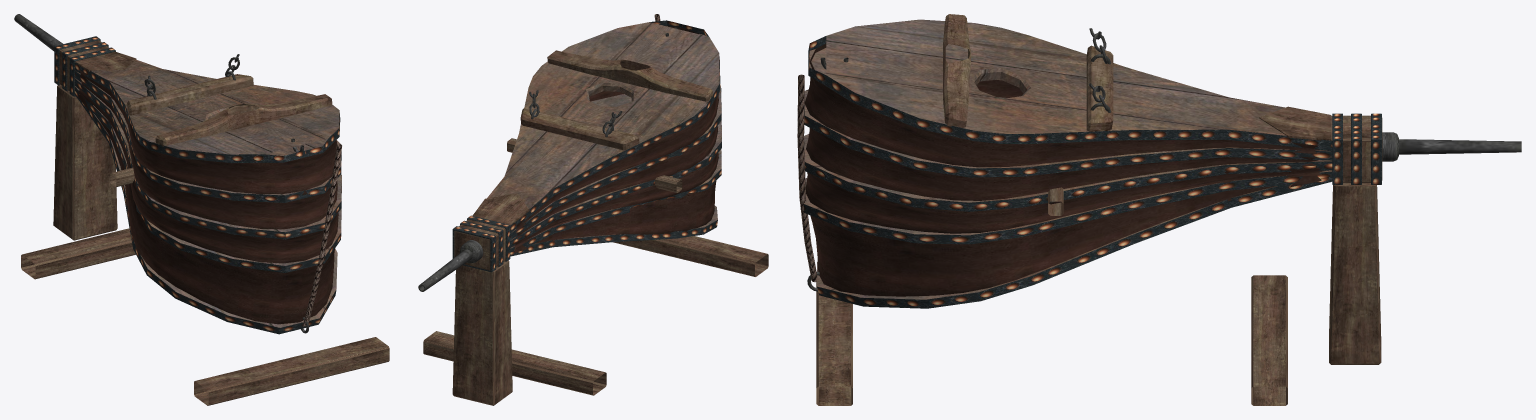
Rendered from bellows.glb.
3 renders of one model, left to right at view 1: azimuth 30°, elevation 25°; view 2: azimuth 150°, elevation 25°; view 3: azimuth 270°, elevation 25°, orthographic. The views are drawn at different scales.
Visible parts, largest first — view 1: bellows; view 2: bellows; view 3: bellows.
Boxes of the visible parts, x1,y1,x2,y2 form: bellows: [14, 14, 389, 405]; bellows: [418, 14, 768, 405]; bellows: [797, 14, 1521, 405].
Bounding box in the file's own units: 0.3995 × 0.4973 × 1.1.
1 material, 1 textured.
